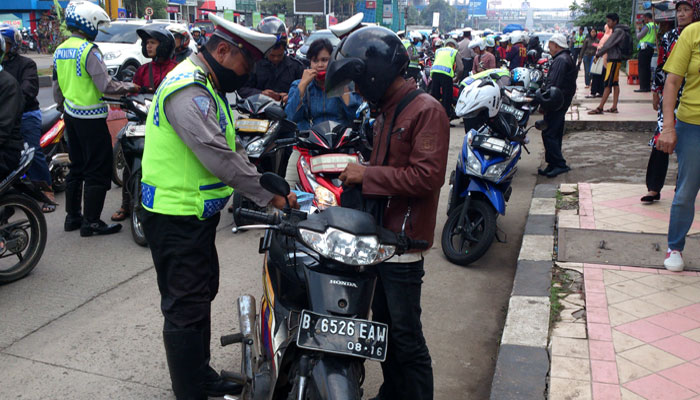plate: (300, 309, 390, 362), (309, 155, 358, 174), (479, 135, 510, 154)
